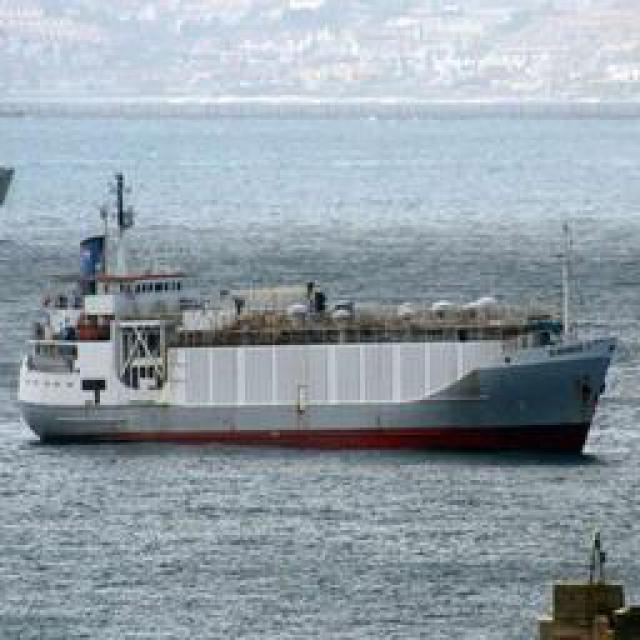Ship: (10, 197, 615, 455)
